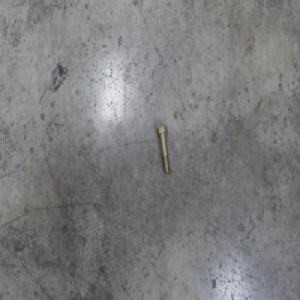Bolt: (155, 124, 169, 174)
